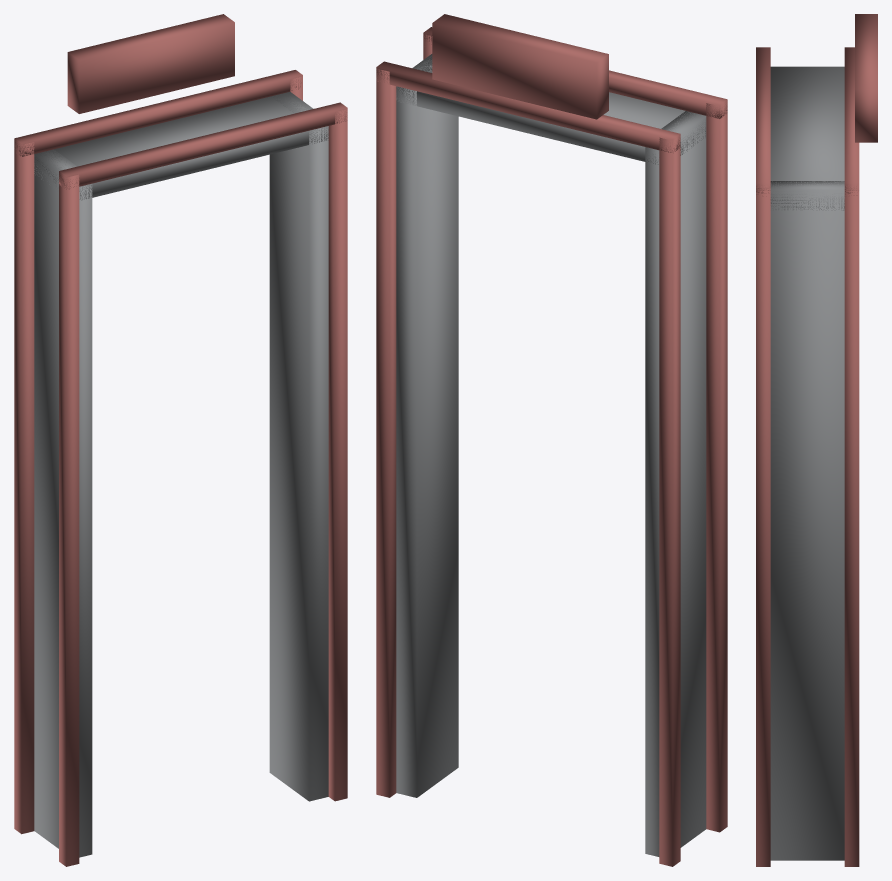
File: doorway_emergency_exit_w76_h220_d24.glb
3 views of the same model, side by side, from view 1: azimuth 30°, elevation 25°; view 2: azimuth 150°, elevation 25°; view 3: azimuth 270°, elevation 25° (orthographic). The views are drawn at different scales.
Parts seen in each view (by area): view 1: world; view 2: world; view 3: world.
Part boxes in pixels (x1,y1,x2,y2): world: (14, 14, 347, 866); world: (376, 14, 727, 866); world: (756, 14, 877, 866).
Size of the model in its own units: 0.9868 by 2.53 by 0.3733.
